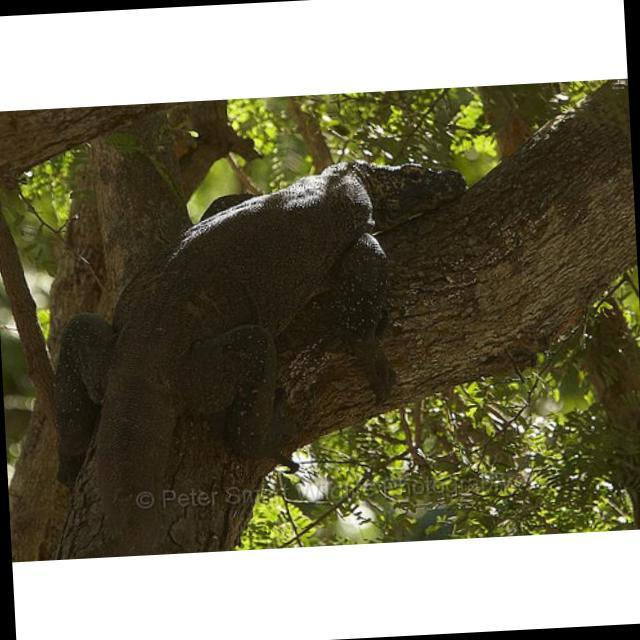KomodoDragon: (38, 155, 487, 557)
